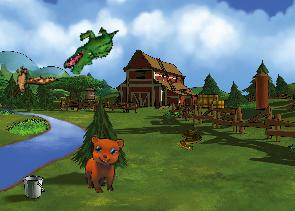bear: (83, 134, 127, 194)
crocodile: (61, 15, 120, 84)
eagle: (0, 52, 59, 109)
